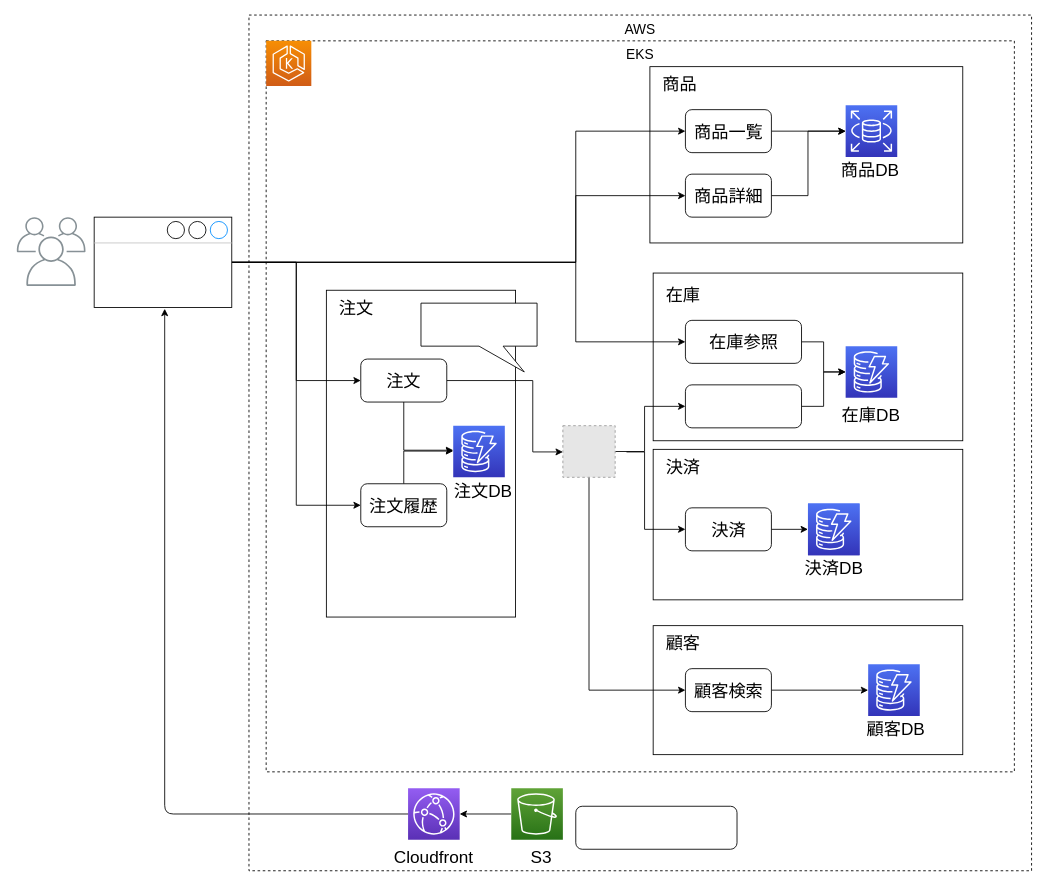
The diagram is 1047 pixels wide and 889 high, and some of its shapes have lost their labels. Grey dashed boxes stand in for pictures. The centre of each missing label's shape, as x and y in pixels:
"SAGAパターン" belongs at pixel 478 337.
"エンドユーザー" belongs at pixel 50 251.
"クライアントアプリ （React）" belongs at pixel 656 827.
"サンプル" belongs at pixel 162 261.
"在庫引き当て" belongs at pixel 743 406.
